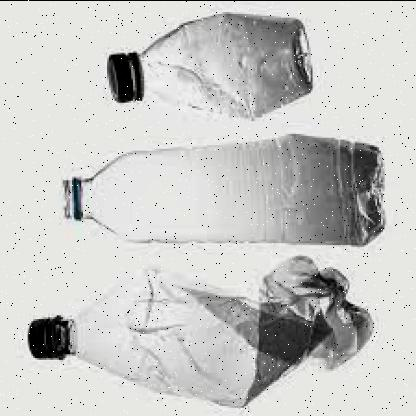Plastic Bottle: (26, 256, 372, 408), (61, 134, 385, 246), (106, 11, 312, 121)
